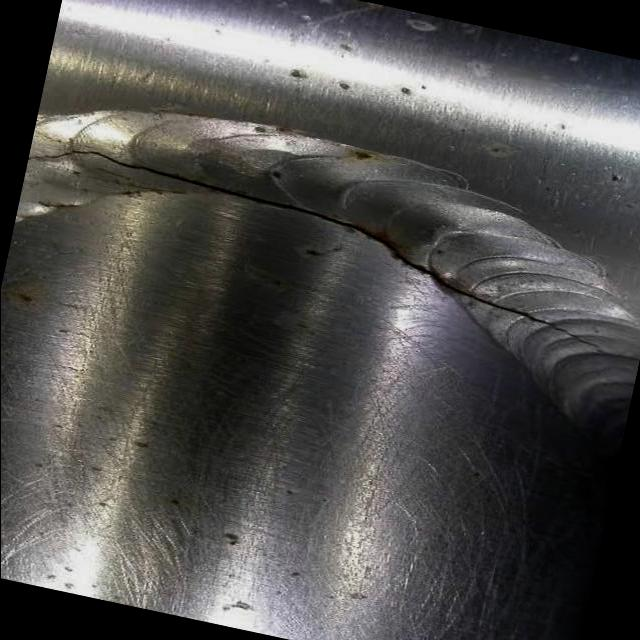defect: (27, 145, 607, 354)
